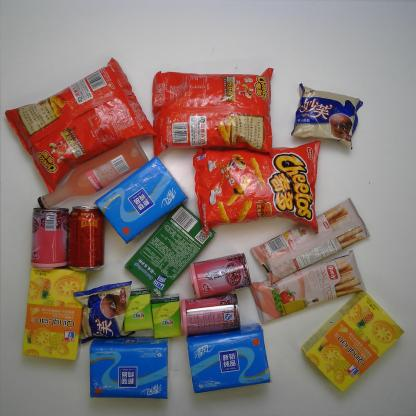Alcohol: (30, 139, 154, 208)
Canned Food: (171, 289, 254, 342), (180, 245, 252, 297), (22, 204, 76, 270)
Dessert: (296, 292, 416, 394), (247, 197, 375, 278), (121, 201, 214, 293), (251, 251, 366, 323), (22, 262, 88, 362), (292, 80, 371, 151), (61, 276, 134, 344)
Drink: (68, 199, 113, 269)
Puffed Food: (5, 52, 155, 186), (188, 142, 334, 230), (146, 65, 282, 156)
Tissue: (97, 155, 194, 240), (185, 328, 273, 394), (86, 339, 178, 402), (149, 296, 190, 343), (127, 284, 158, 338)
